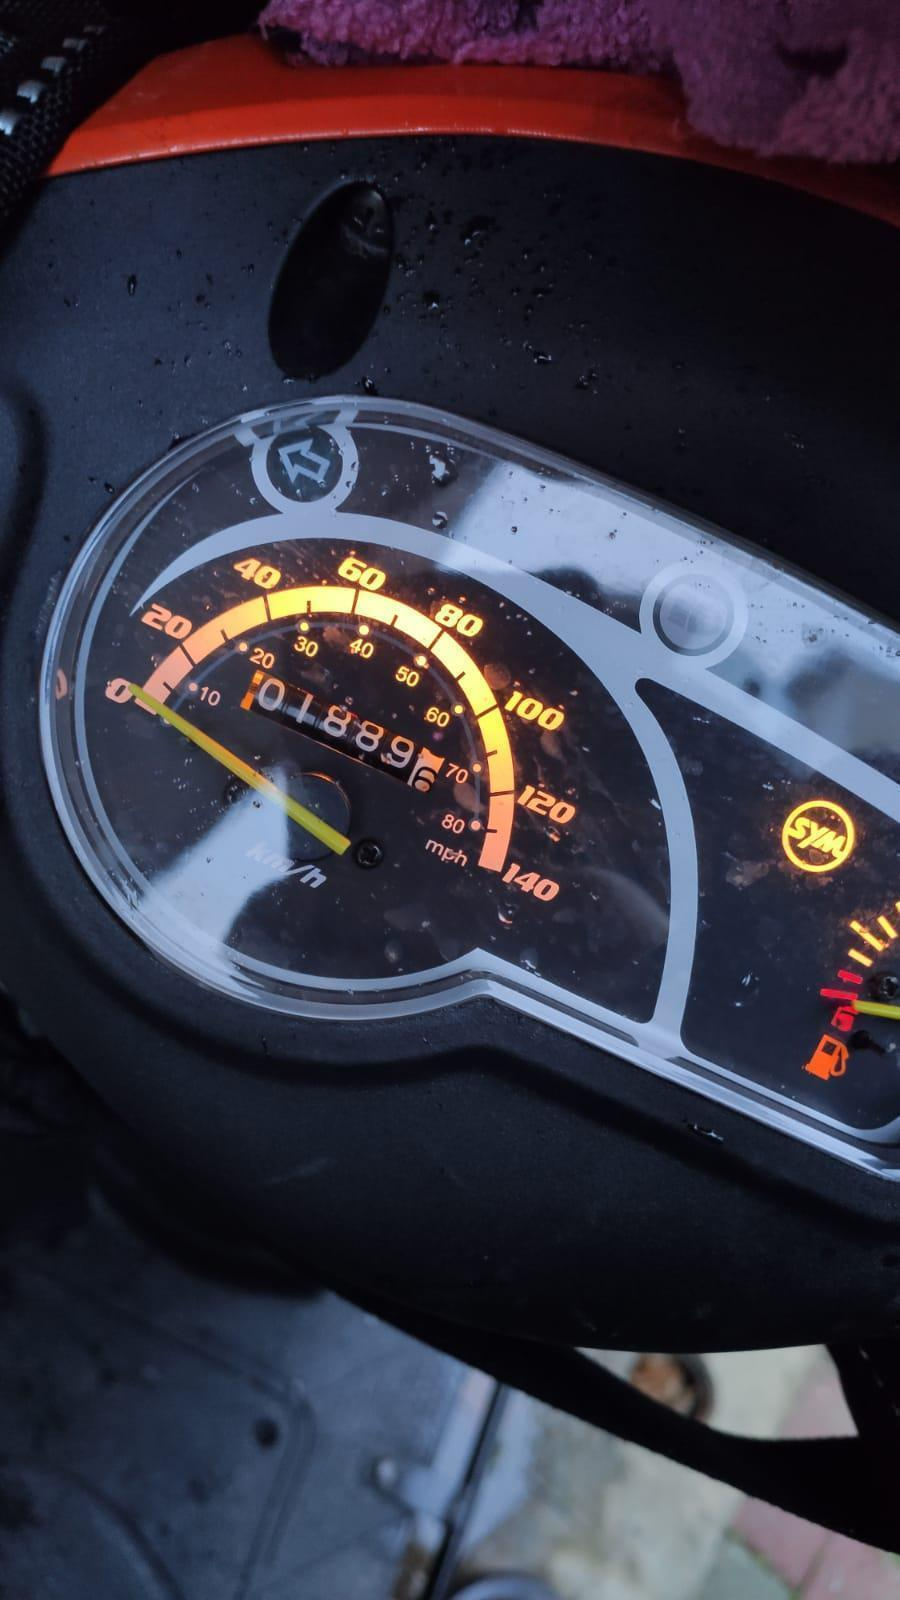0: (254, 677, 287, 713), (436, 710, 451, 726), (408, 669, 420, 687)
1: (295, 687, 315, 727)
5: (396, 666, 408, 681)
6: (410, 762, 438, 795), (425, 705, 438, 722)
8: (353, 716, 385, 753), (323, 701, 352, 740)
9: (387, 732, 413, 768)
odometer: (235, 666, 451, 796)
